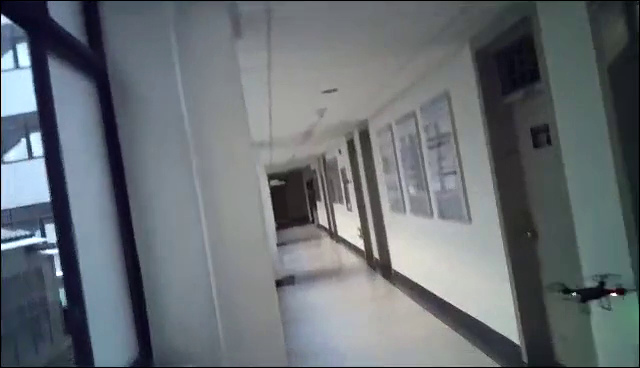drone: (545, 271, 640, 317)
